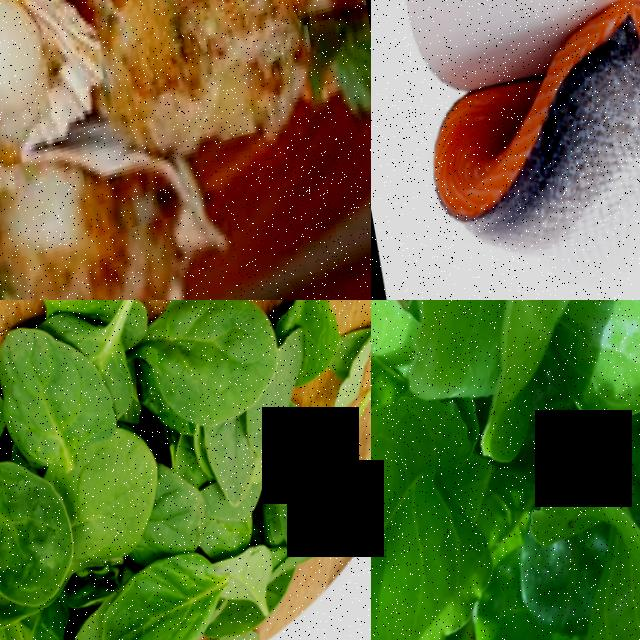salmon: (410, 0, 640, 281)
spinach: (371, 390, 513, 640), (135, 300, 288, 445), (0, 310, 117, 481), (484, 300, 640, 405), (0, 449, 82, 617), (63, 446, 169, 572), (95, 557, 229, 640), (277, 485, 348, 565), (201, 424, 258, 511)
